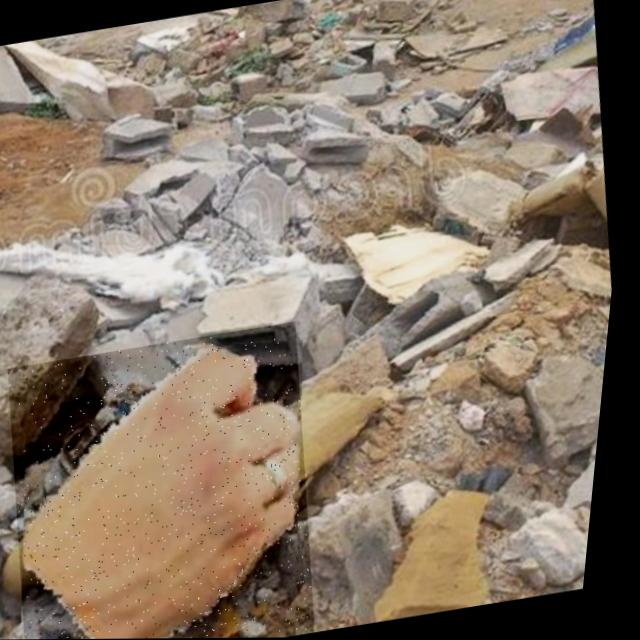Person in Rubble: (0, 322, 351, 640)
